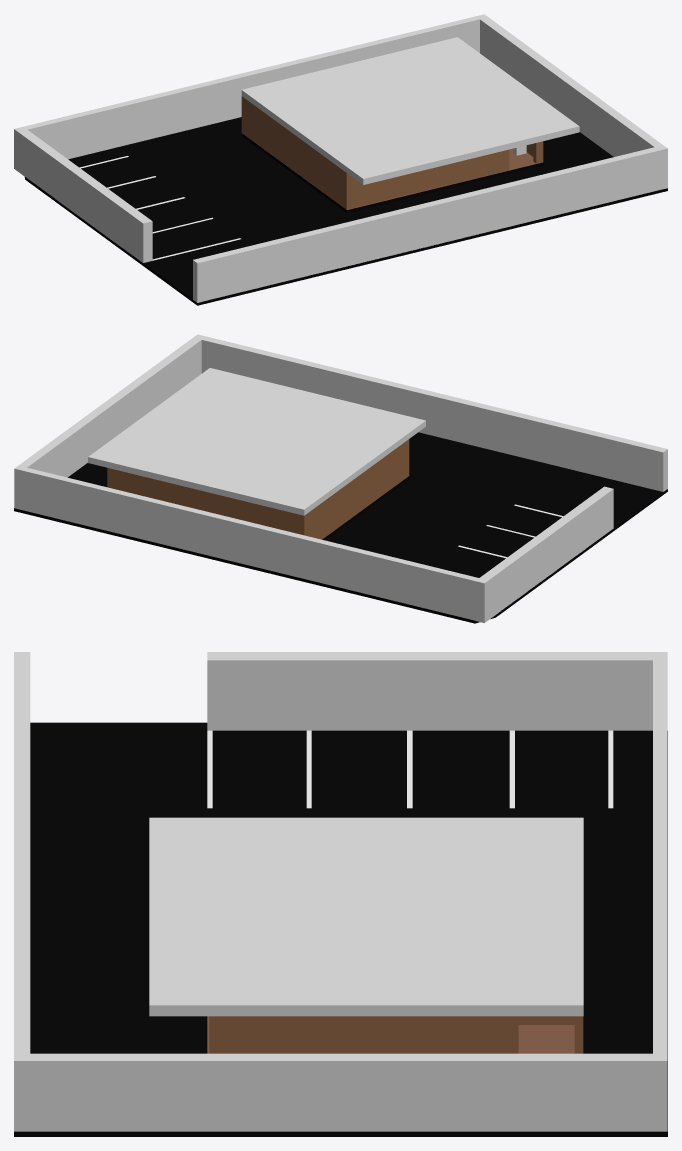
Rendered from New Music Bar 1.fbx.
The picture shows the model from 3 angles, top to bottom: view 1: azimuth 30°, elevation 25°; view 2: azimuth 150°, elevation 25°; view 3: azimuth 270°, elevation 25°; orthographic projection. The views are drawn at different scales.
Parts seen in each view (by area): view 1: Ext Walls, Ground, Roof, Structure; view 2: Ext Walls, Roof, Ground, Structure; view 3: Ground, Ext Walls, Roof, Structure.
Part boxes in pixels (box(x1,y1,x2,y2)): Ext Walls: box(14, 14, 667, 302); Ground: box(24, 117, 667, 305); Roof: box(241, 37, 579, 184); Structure: box(241, 96, 543, 209); Ext Walls: box(14, 334, 667, 622); Roof: box(88, 368, 425, 515); Ground: box(14, 432, 667, 623); Structure: box(107, 439, 409, 539); Ground: box(14, 722, 667, 1136); Ext Walls: box(14, 652, 667, 1131); Roof: box(149, 817, 583, 1016); Structure: box(209, 1016, 583, 1053).
Bounding box in the file's own units: 3057 × 305 × 2066.
